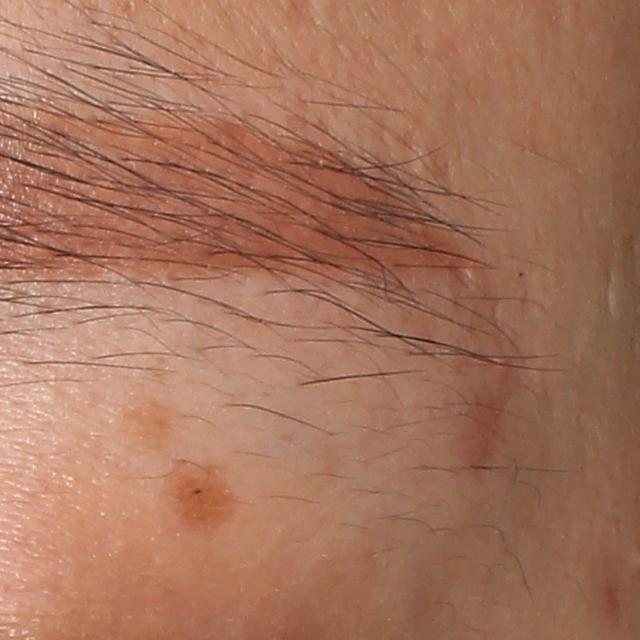atrophic_scar: (598, 265, 621, 322)
melasma: (156, 464, 249, 527), (122, 393, 176, 445)
